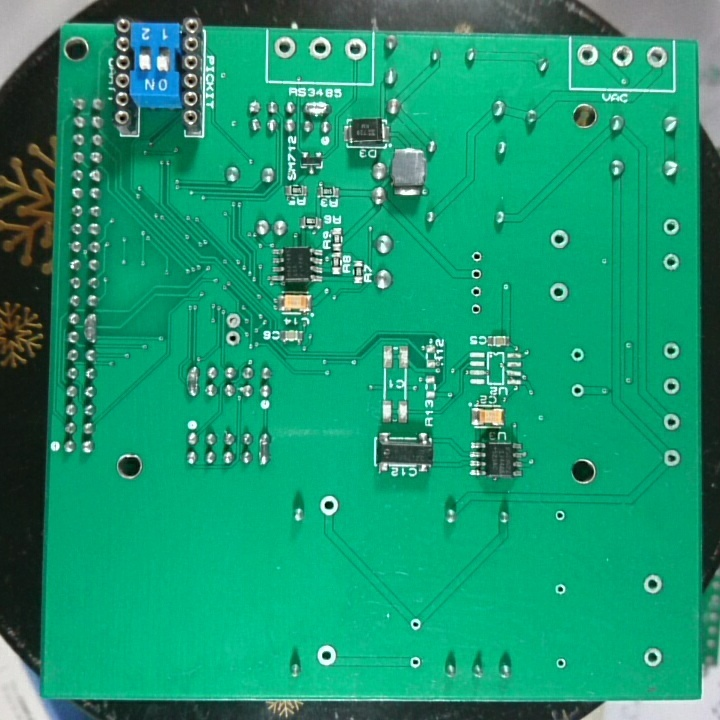F: (342, 34, 366, 67), (306, 35, 334, 62), (313, 640, 339, 669), (642, 43, 665, 73), (574, 40, 599, 67), (610, 43, 634, 71), (548, 226, 572, 254), (546, 278, 570, 306), (640, 569, 665, 595), (272, 35, 297, 60), (317, 492, 341, 518), (660, 445, 683, 472), (661, 249, 682, 277), (641, 646, 666, 669), (659, 373, 681, 399), (660, 215, 681, 240), (661, 339, 682, 363), (660, 409, 680, 432), (222, 329, 244, 349), (567, 343, 585, 366), (222, 311, 245, 329), (406, 652, 425, 673), (468, 247, 488, 266), (552, 655, 570, 674), (405, 615, 424, 633), (468, 263, 485, 283), (568, 381, 586, 399), (551, 580, 568, 599), (468, 282, 485, 300), (551, 506, 568, 523), (468, 300, 483, 318)
P: (184, 362, 202, 400), (254, 429, 270, 466), (80, 312, 98, 344), (301, 98, 328, 118)
